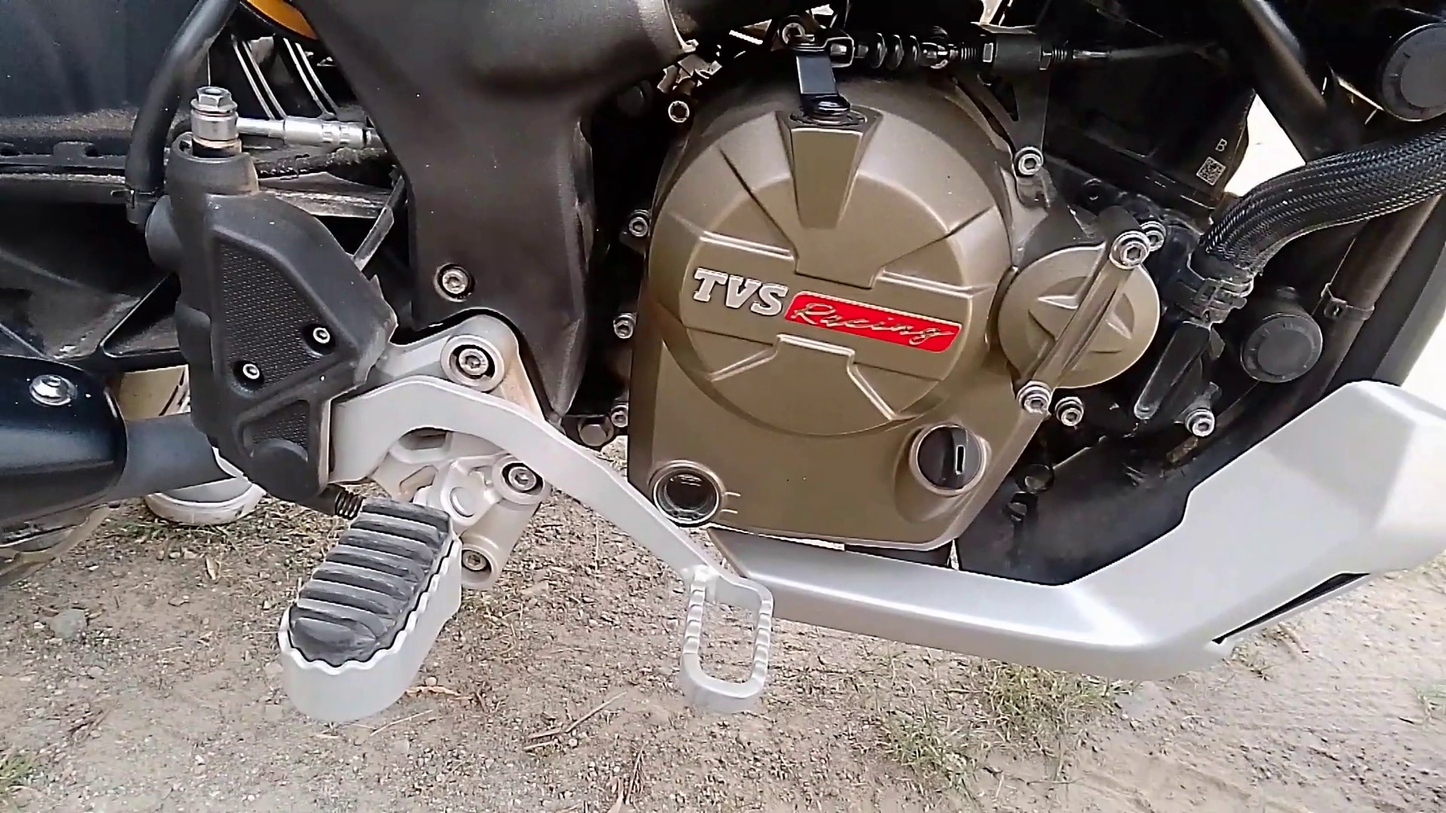engine: (589, 0, 1196, 580)
oil_cap: (896, 403, 996, 504)
oil_marker: (640, 442, 764, 540)
